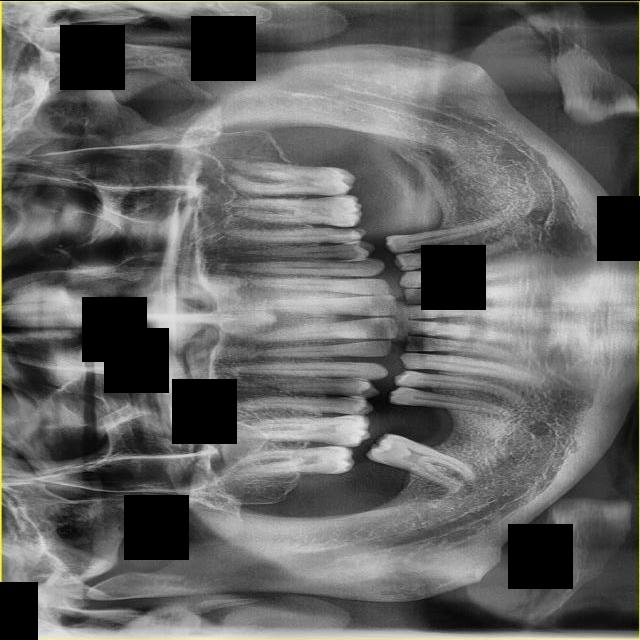Sterngold Implant: (324, 227, 354, 235)
